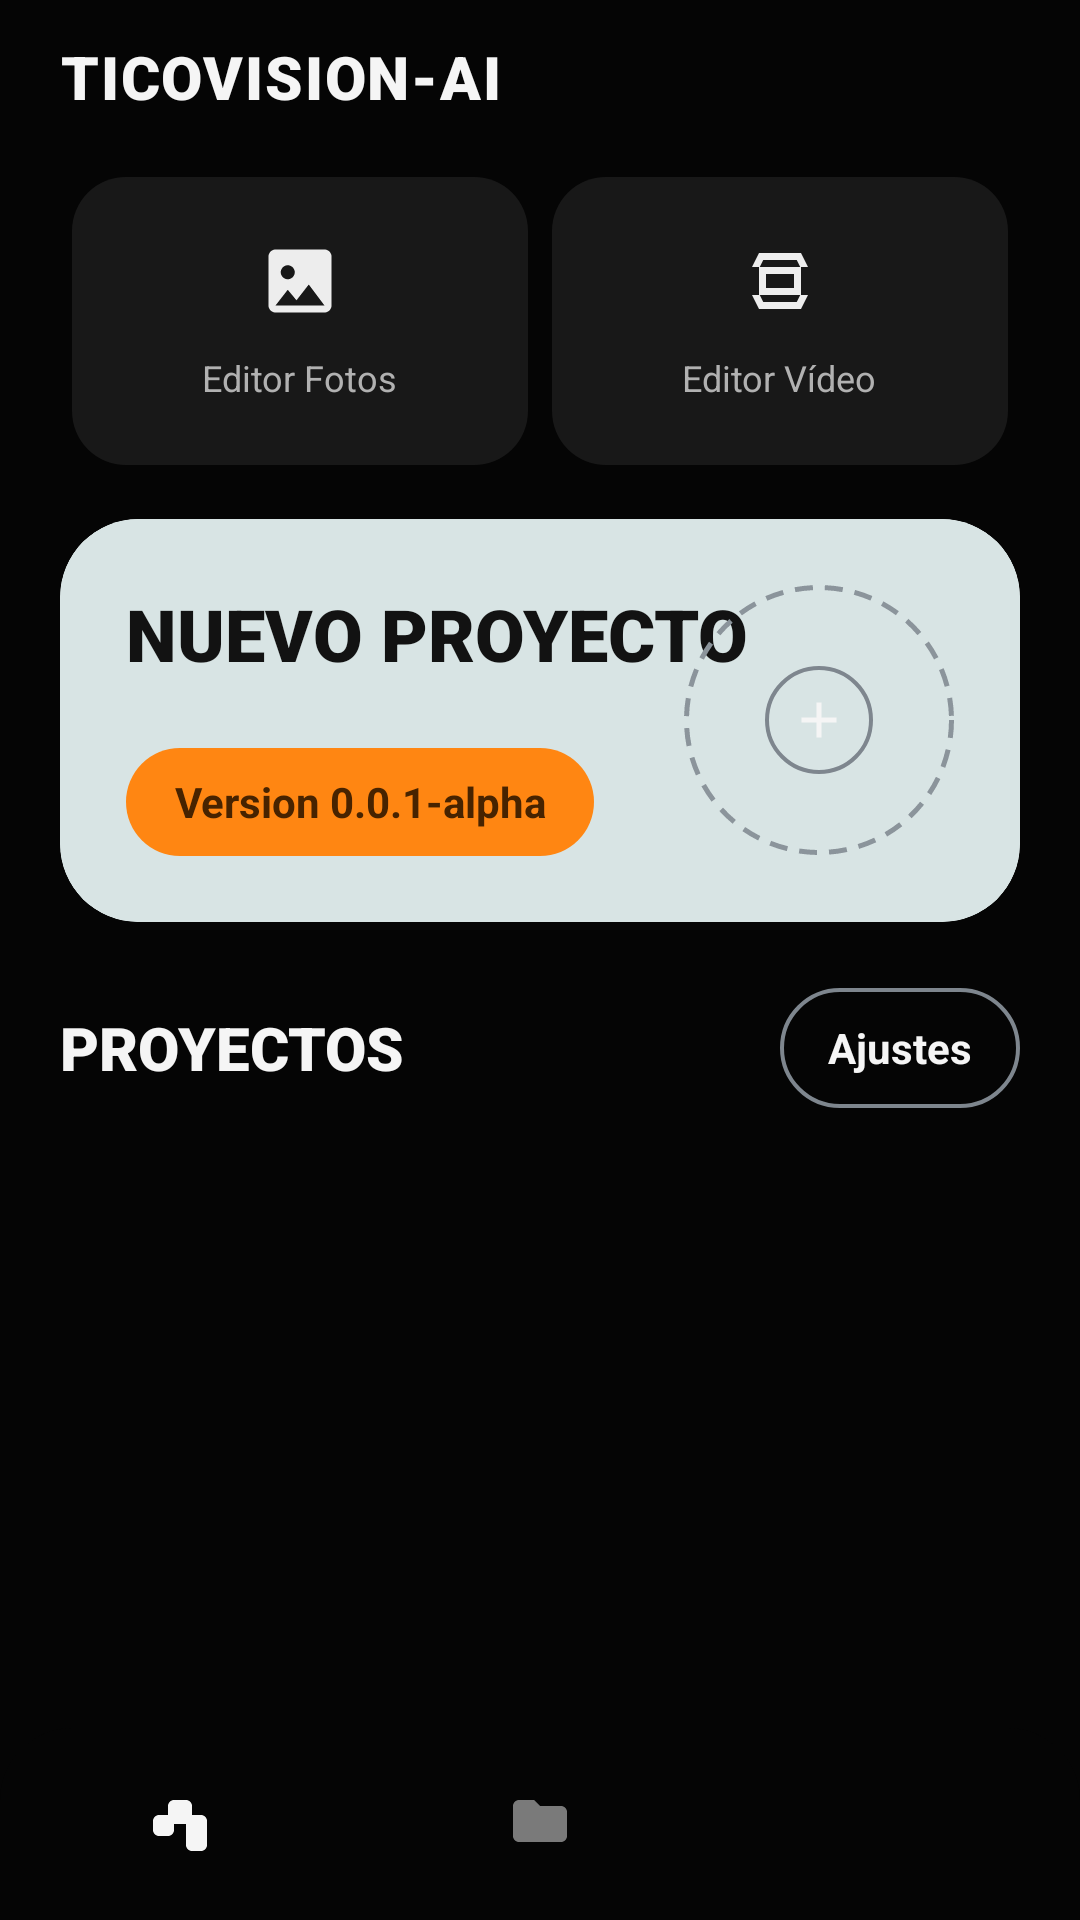

Screen size 1080px x 1920px. Icon name, then its box in pixels as (x1,y1,x2,y2):
add: (765,666,873,774)
photo: (268,249,332,313)
